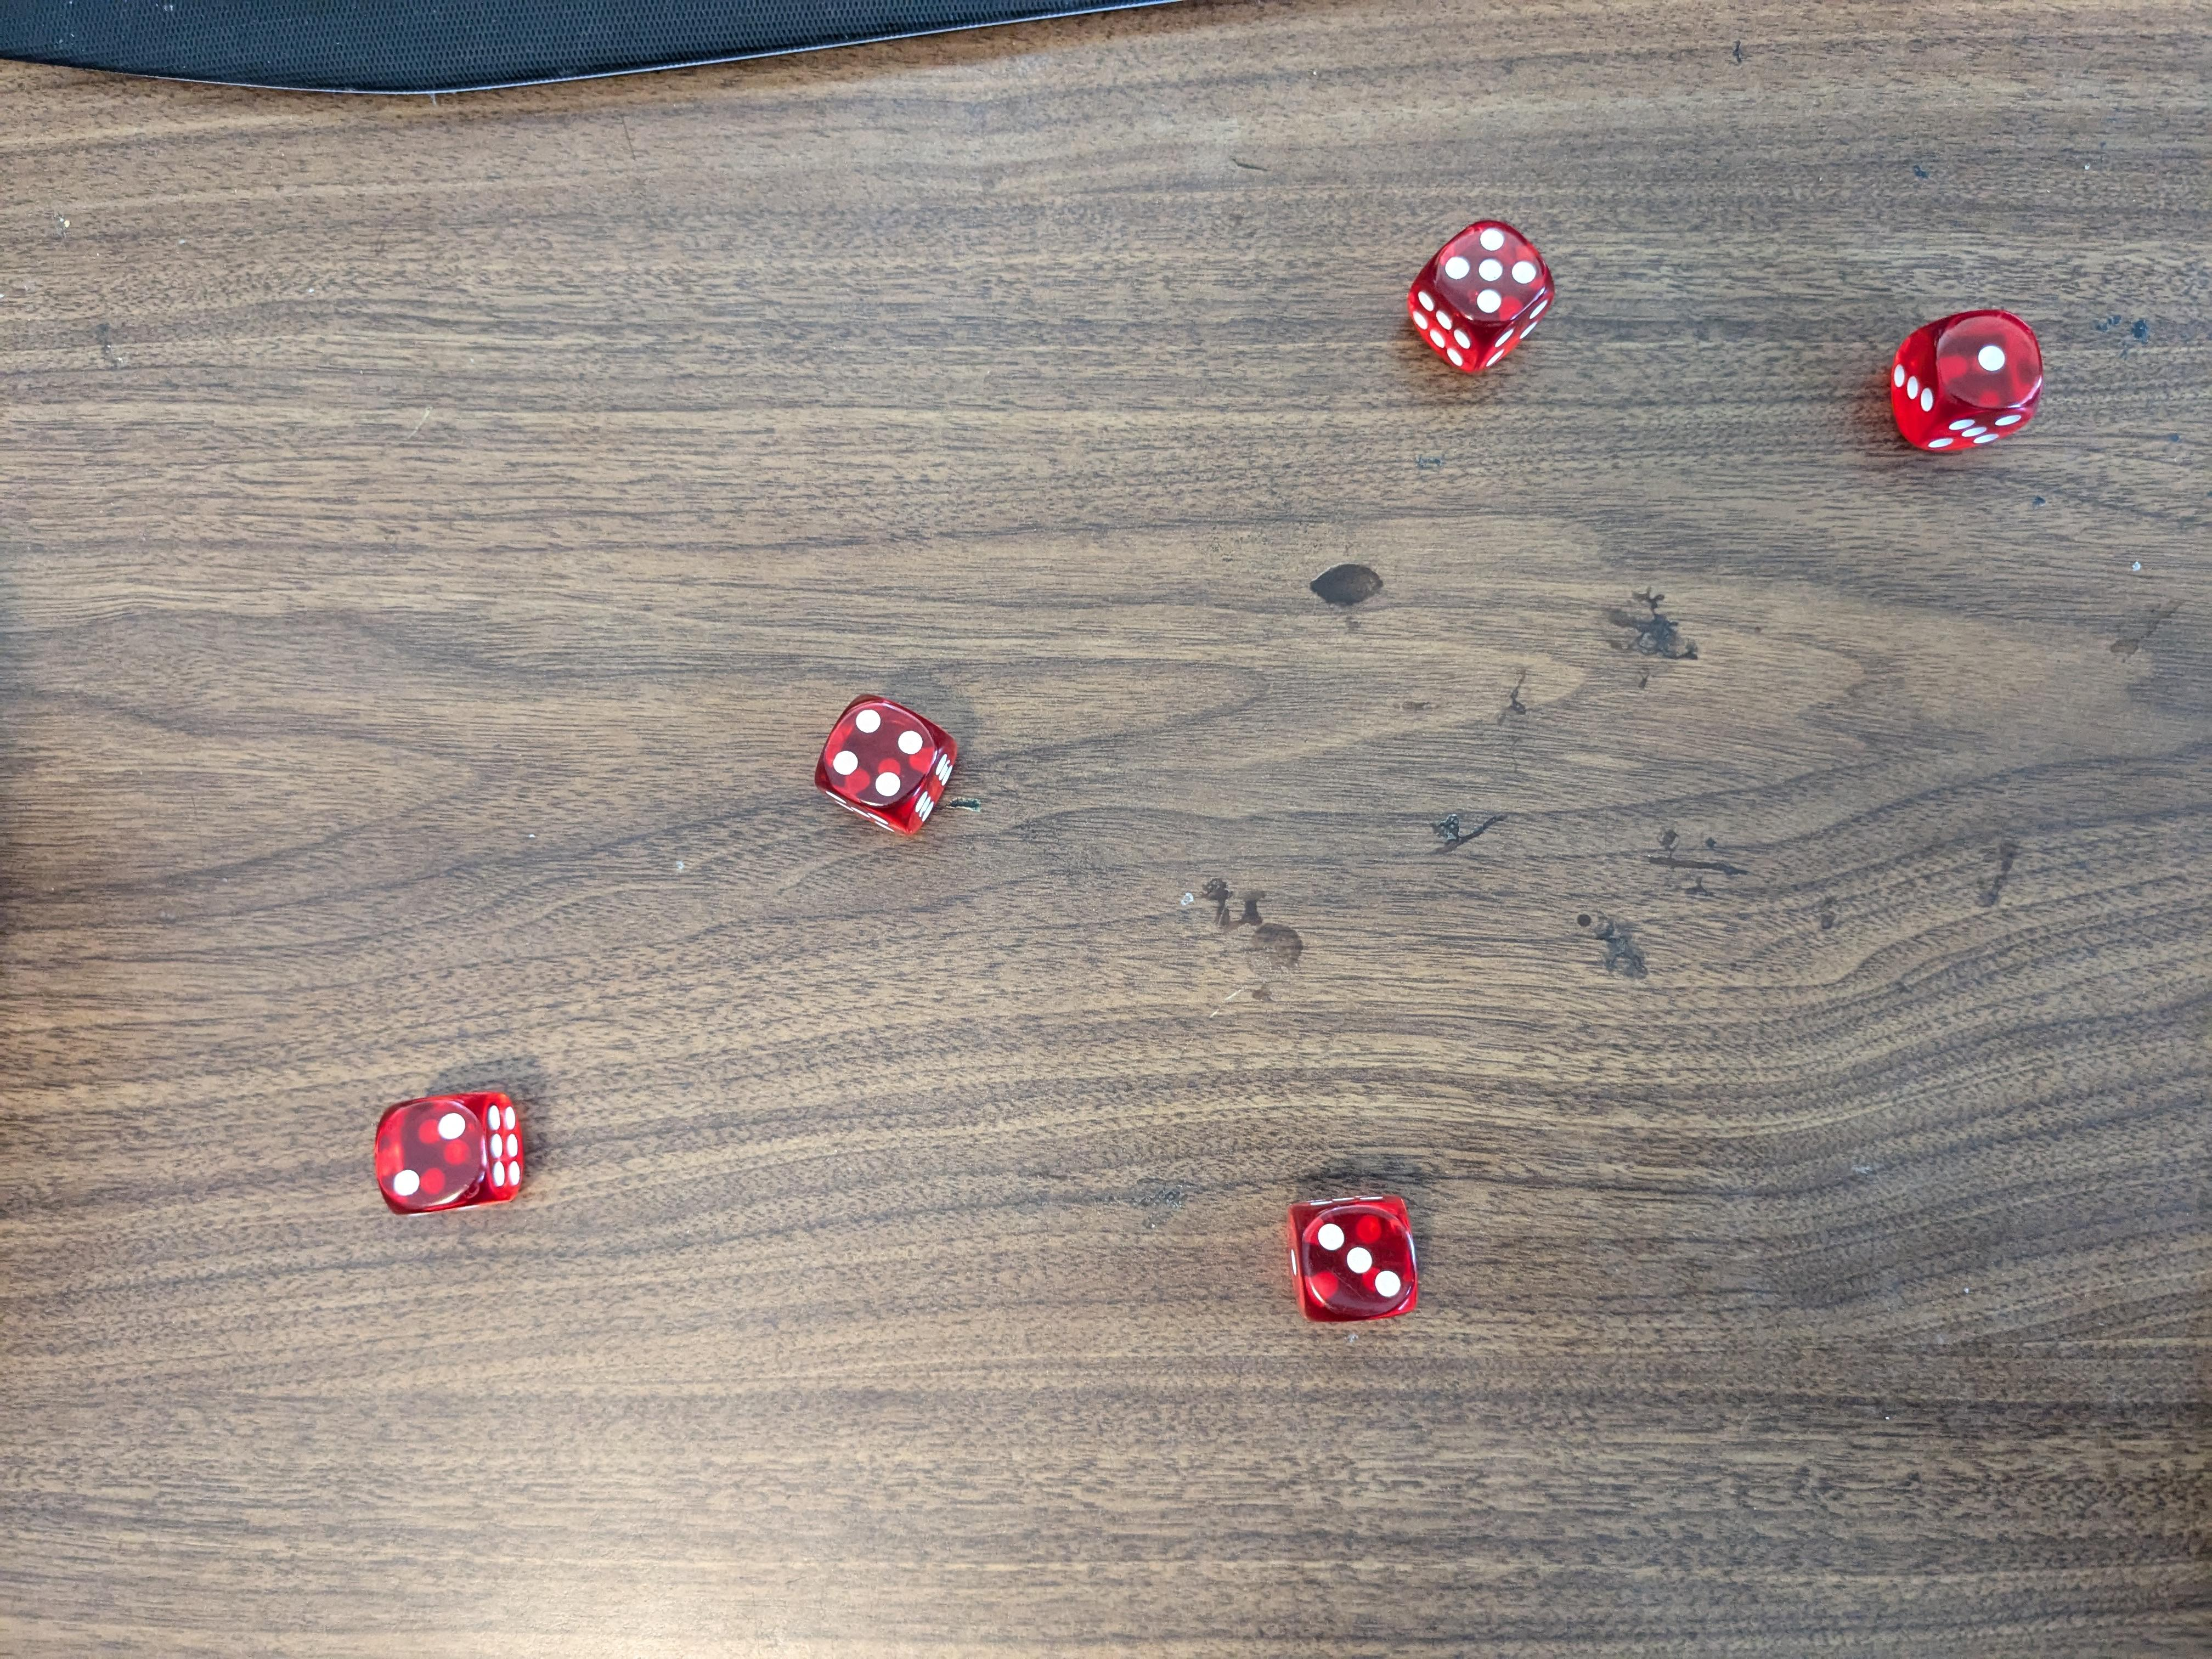five: (1402, 214, 1557, 380)
four: (812, 688, 968, 835)
one: (1893, 305, 2043, 458)
three: (1287, 1195, 1421, 1328)
two: (364, 1080, 529, 1220)
